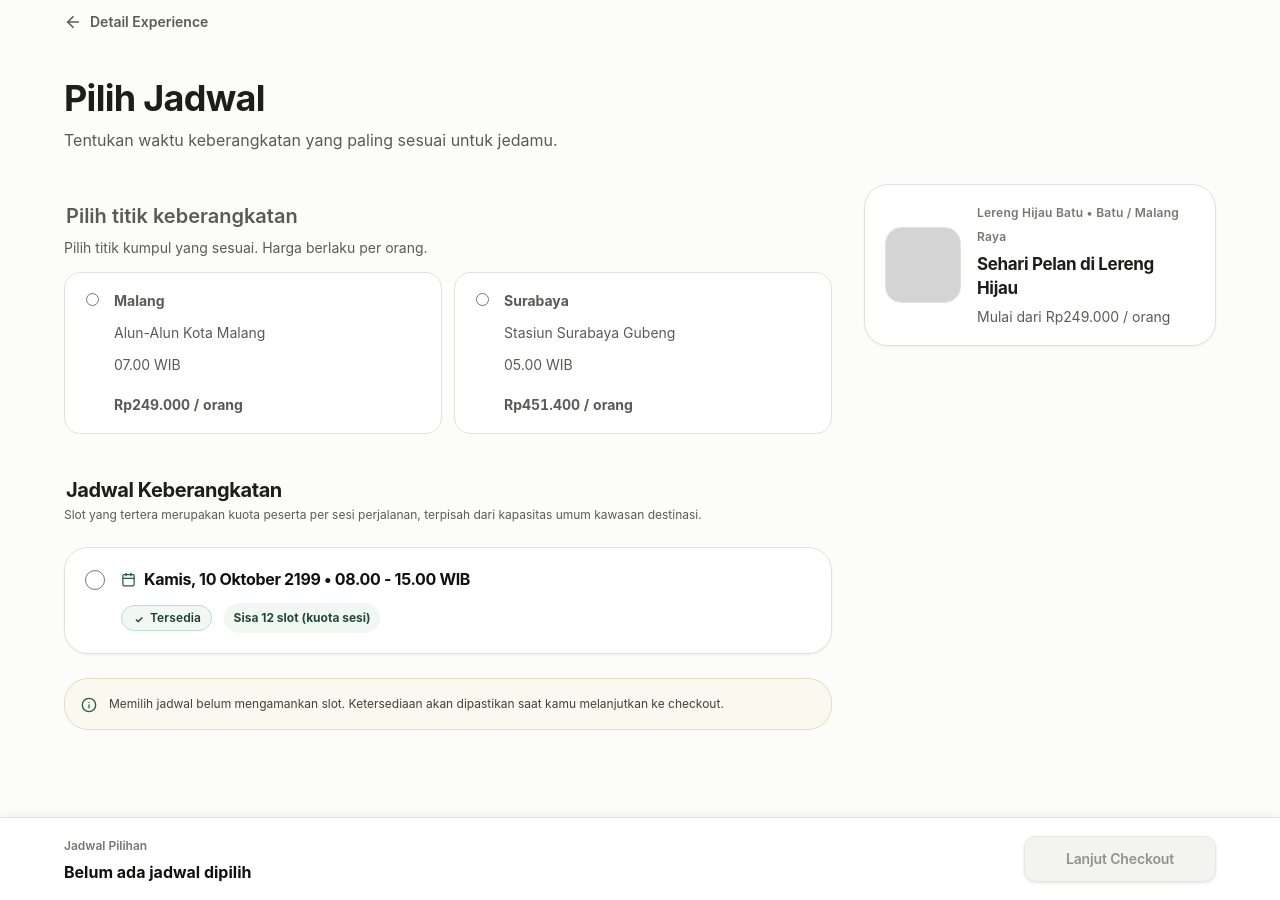
Scenario: Departure options and per-person Traveler pricing › offers departure choice on a direct session route and prevents checkout without a choice
The width and height of the screenshot is (1280, 900).
Click the radio button named "session-choice".
click(95, 580)  # box [85, 570, 105, 590]
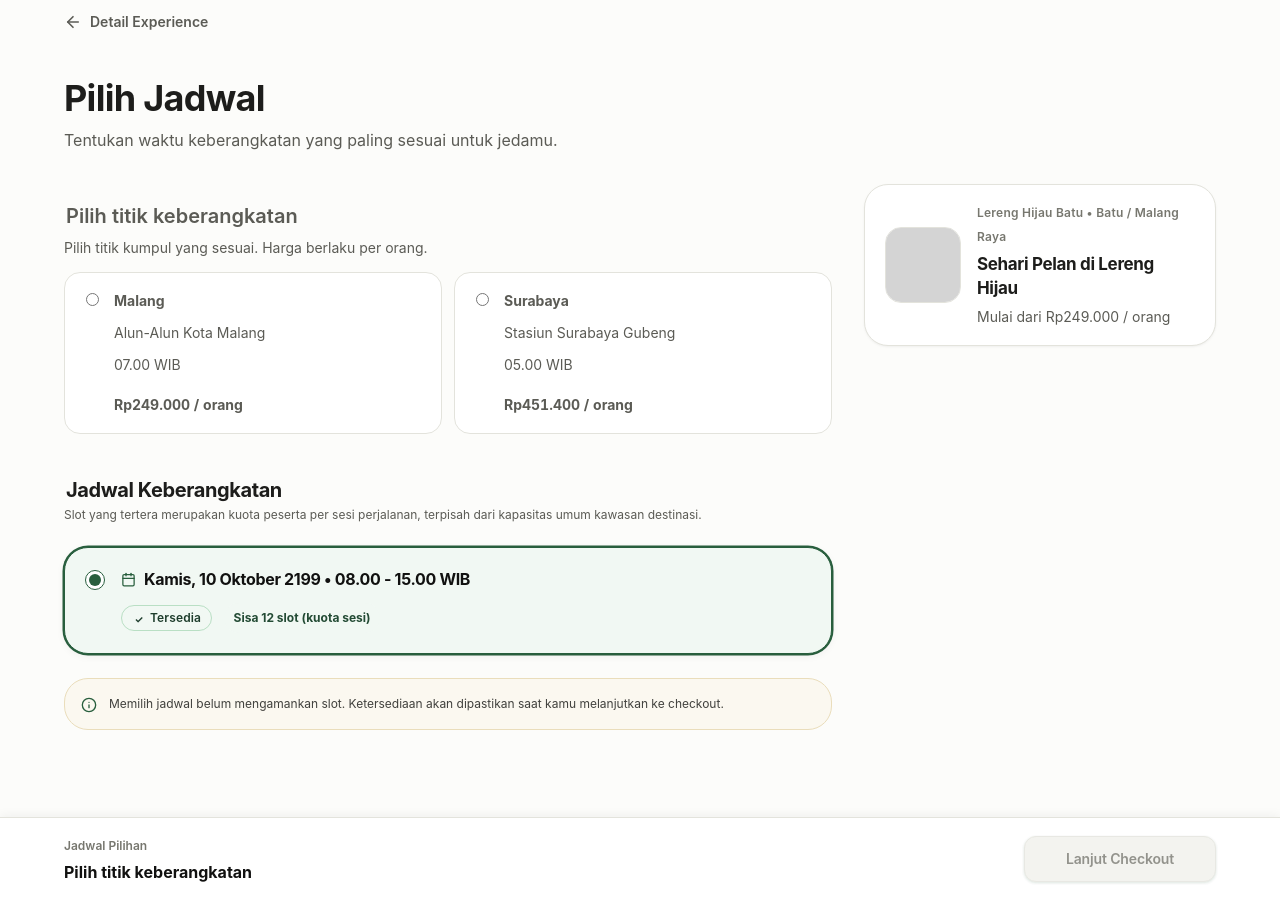
Expected: the button "Lanjut Checkout" is disabled, [1024, 836, 1216, 882]
Click the radio button labelled "Malang Alun-Alun Kota Malang 07.00 WIB Rp249.000 / orang".
click(92, 300)  # box [86, 293, 99, 306]
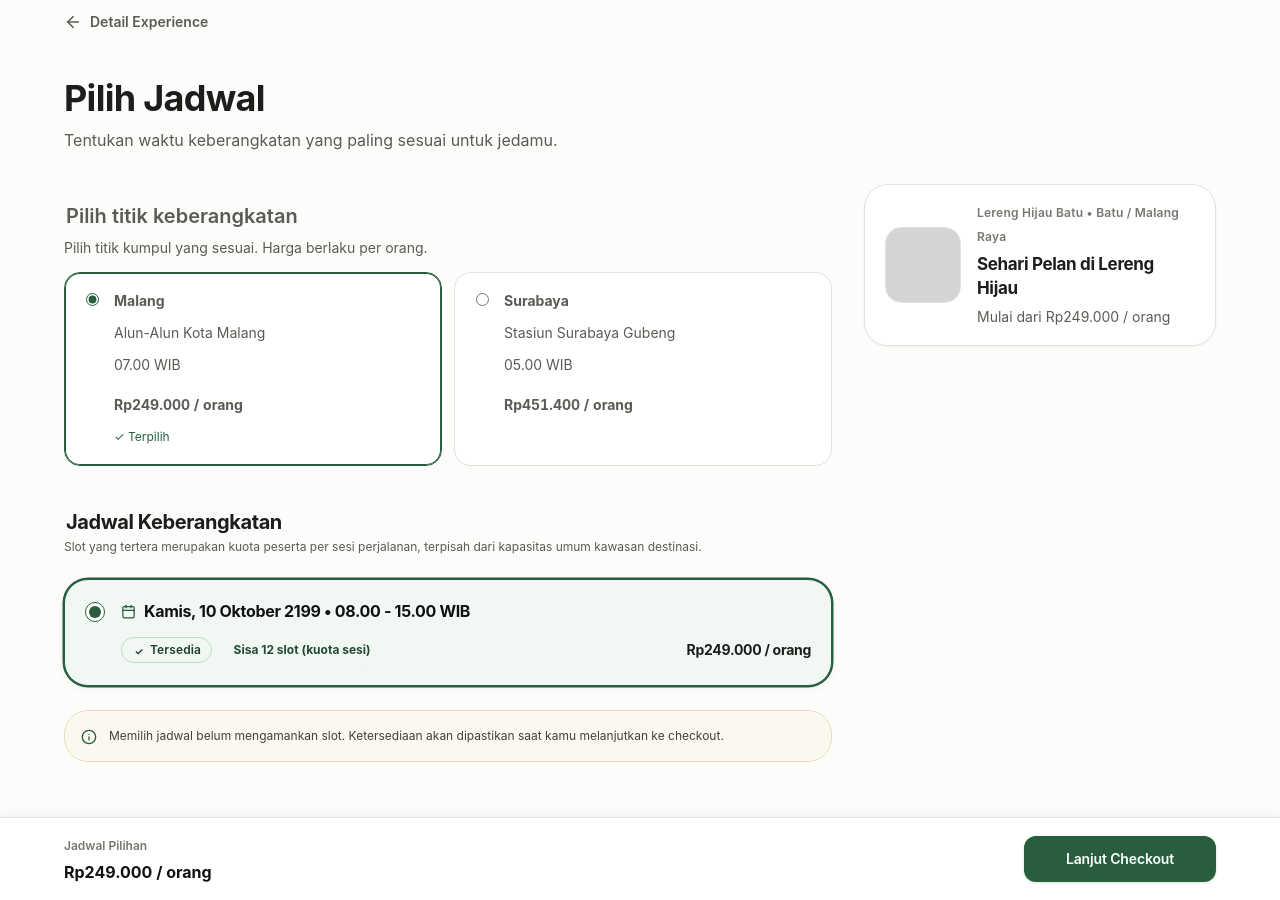
Result: the button "Lanjut Checkout" is enabled at [1024, 836, 1216, 882]
